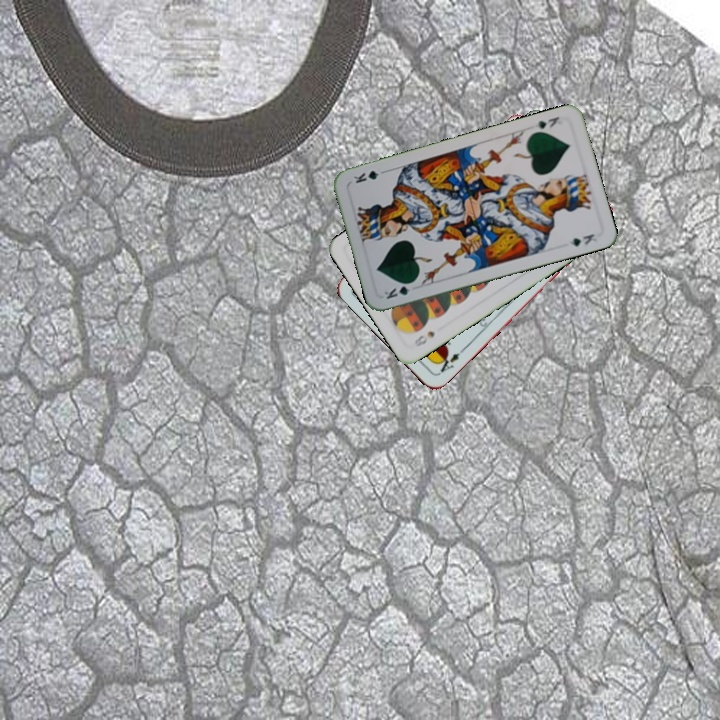EA: (433, 345, 467, 377)
GK: (380, 277, 418, 302), (527, 112, 562, 132)
S8: (410, 327, 438, 350)
